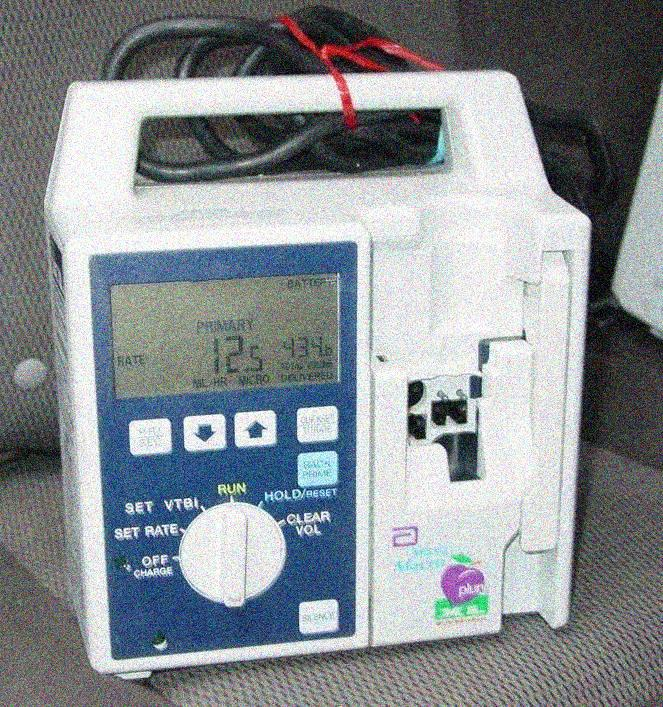plumxl1: (46, 79, 593, 670)
